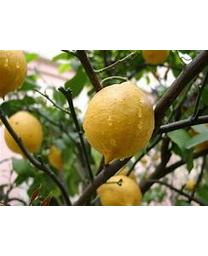lemon: (84, 81, 155, 164), (4, 111, 44, 153), (0, 51, 27, 98), (100, 177, 143, 205)
